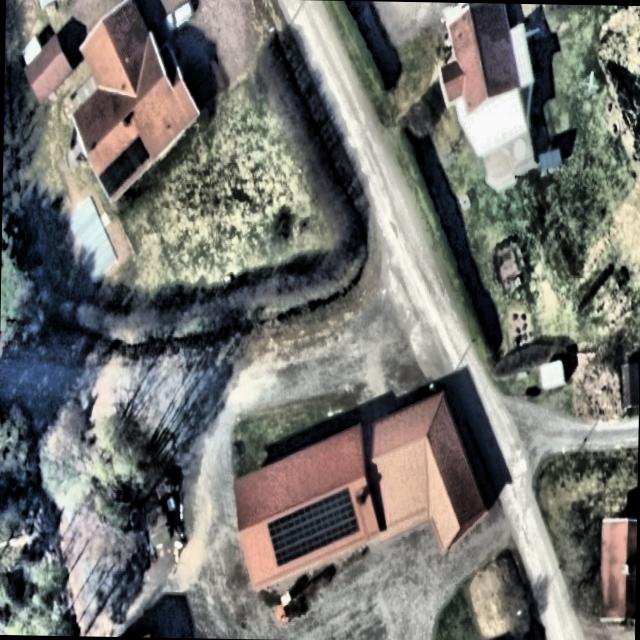roof_pv: (264, 481, 362, 571), (98, 130, 152, 196)
